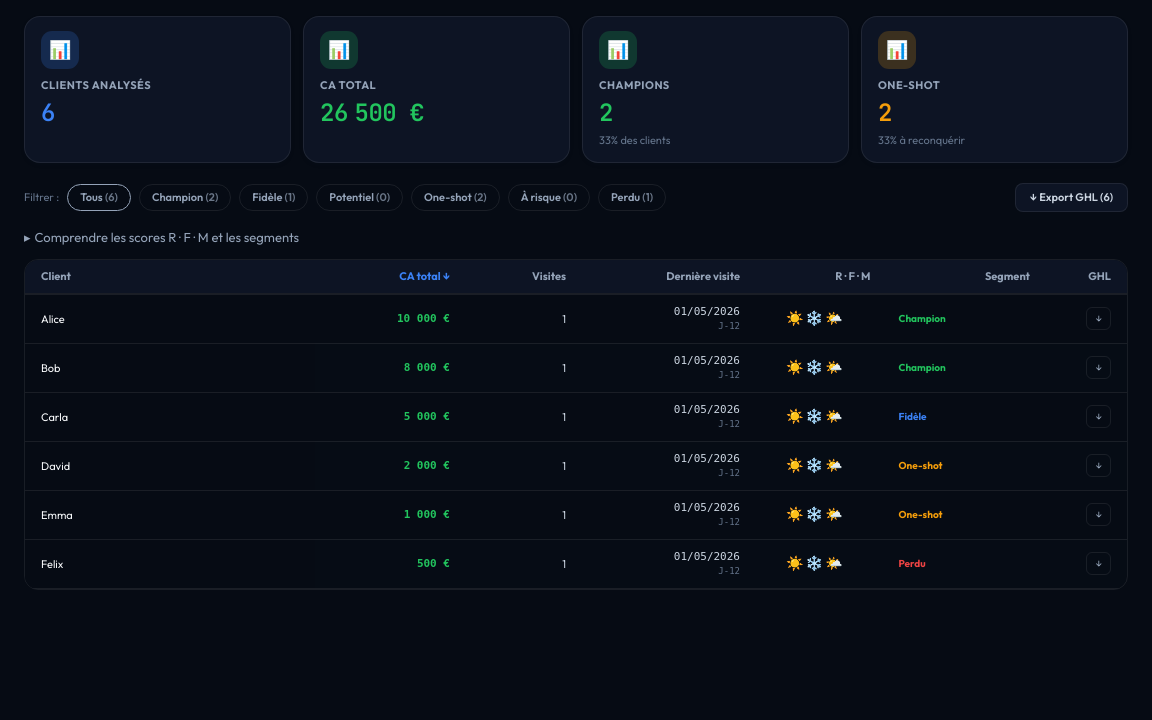
Test case: <SegmentsView> › filtre les clients quand on clique sur un segment
Expected: the text "Alice" is shown, [41,312,65,326]
Expected: the text "Felix" is shown, [41,557,63,571]
// Filtrer sur "Champion"
Click the button "Champion (2)". click: (185, 198)
box: [139,184,231,211]
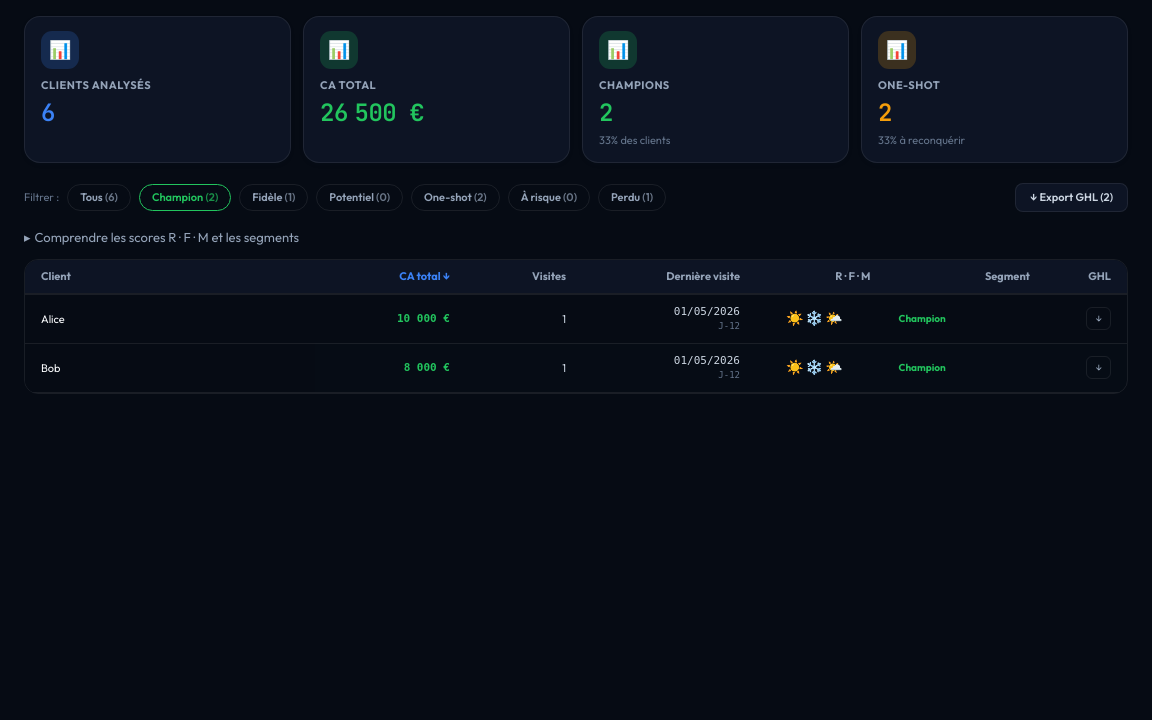
Expected: the text "Alice" is shown, [41,312,65,326]
Expected: the text "Felix" is gone
Expected: the text "Carla" is gone
